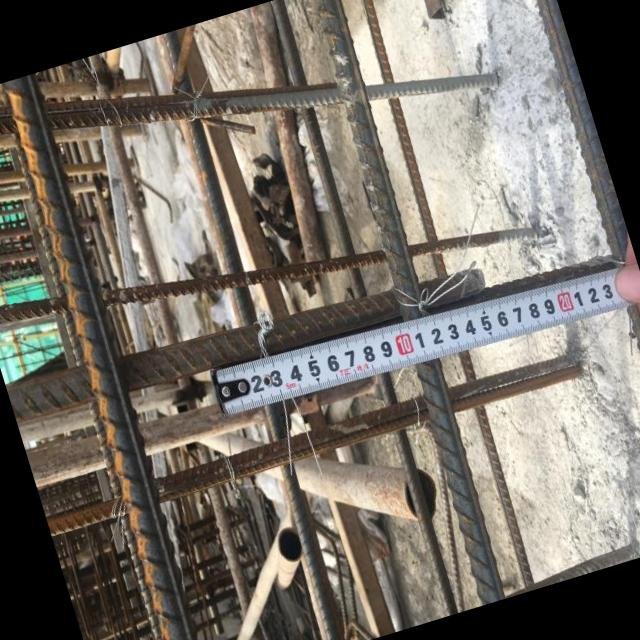ribbed bar: (269, 0, 565, 612), (158, 13, 416, 640), (124, 31, 358, 640), (53, 60, 262, 640), (0, 49, 426, 262), (11, 263, 484, 449), (72, 464, 549, 640), (58, 414, 528, 592), (90, 521, 561, 640)
